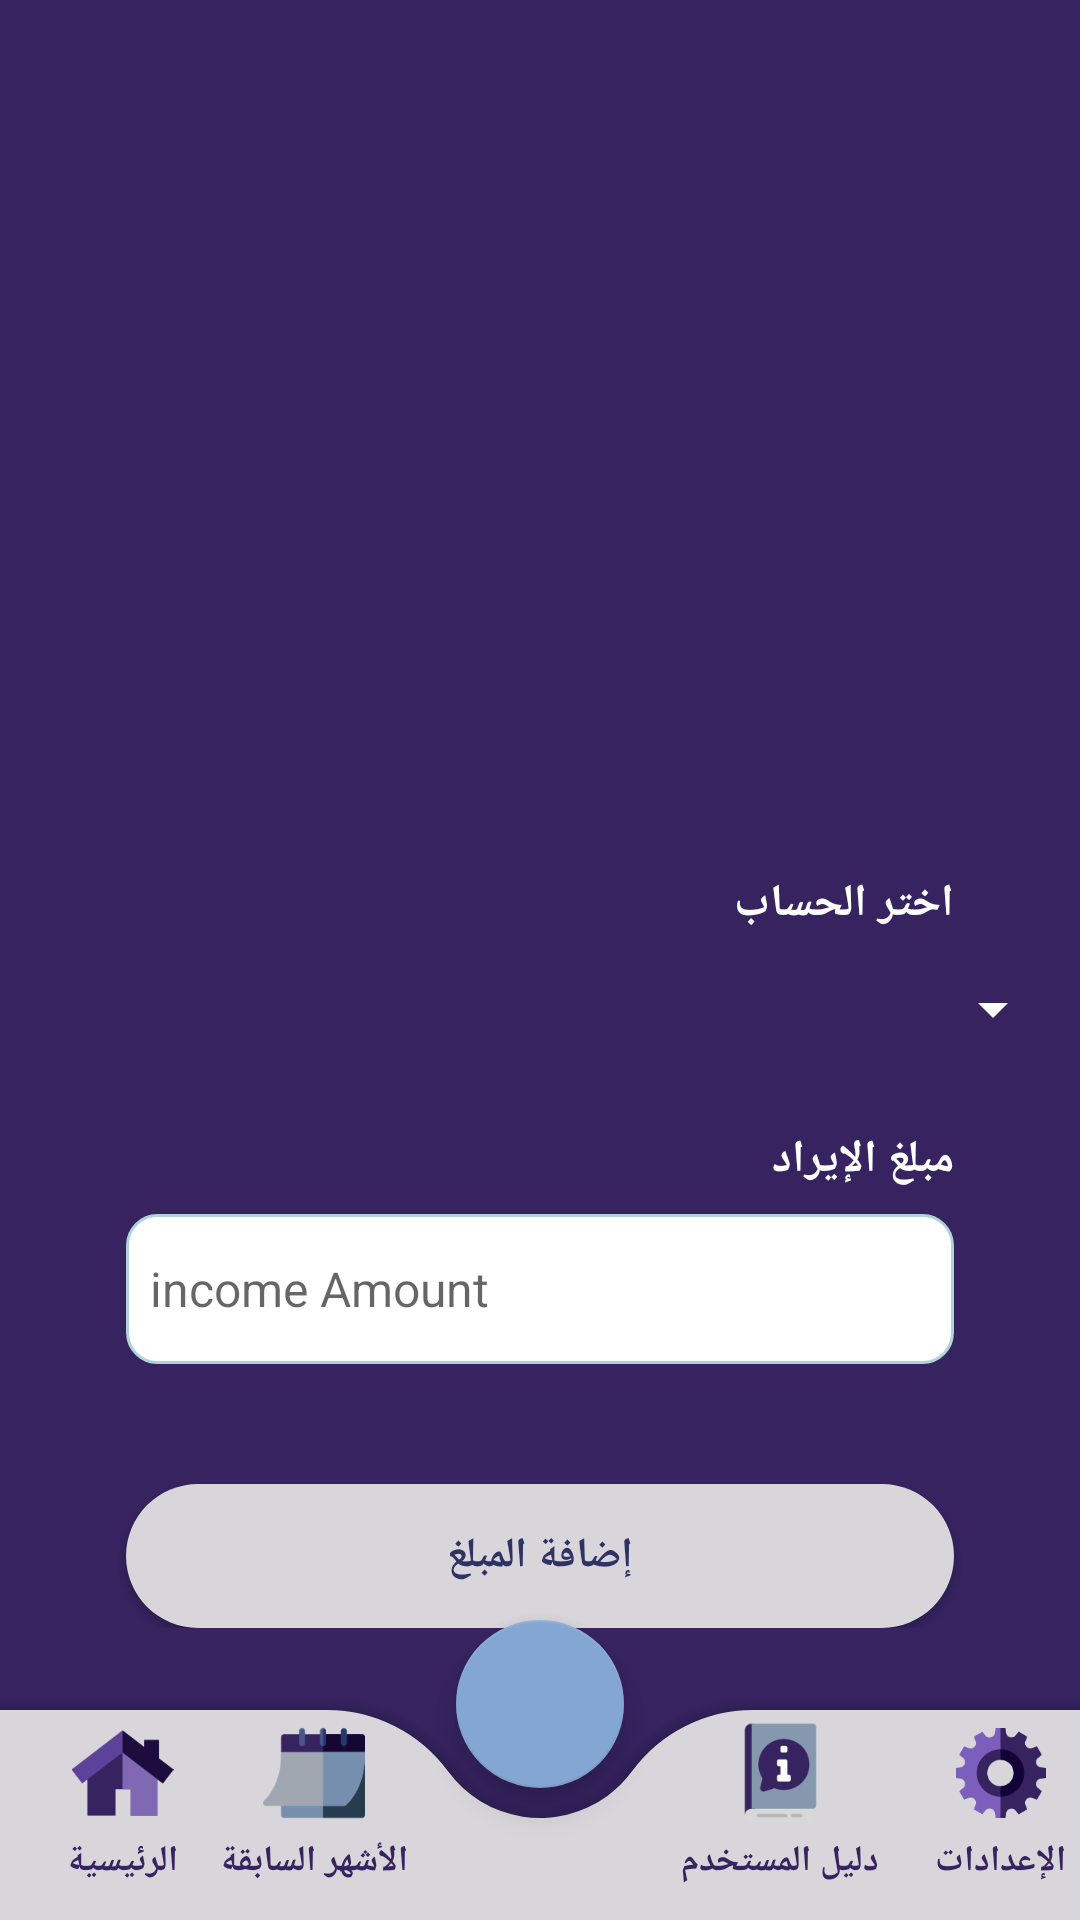

Screen size 1080 × 1920. Icon name, then its box in pixels as [x1,y1,x2,y2]:
calendar masroofe: [263,1728,365,1819]
